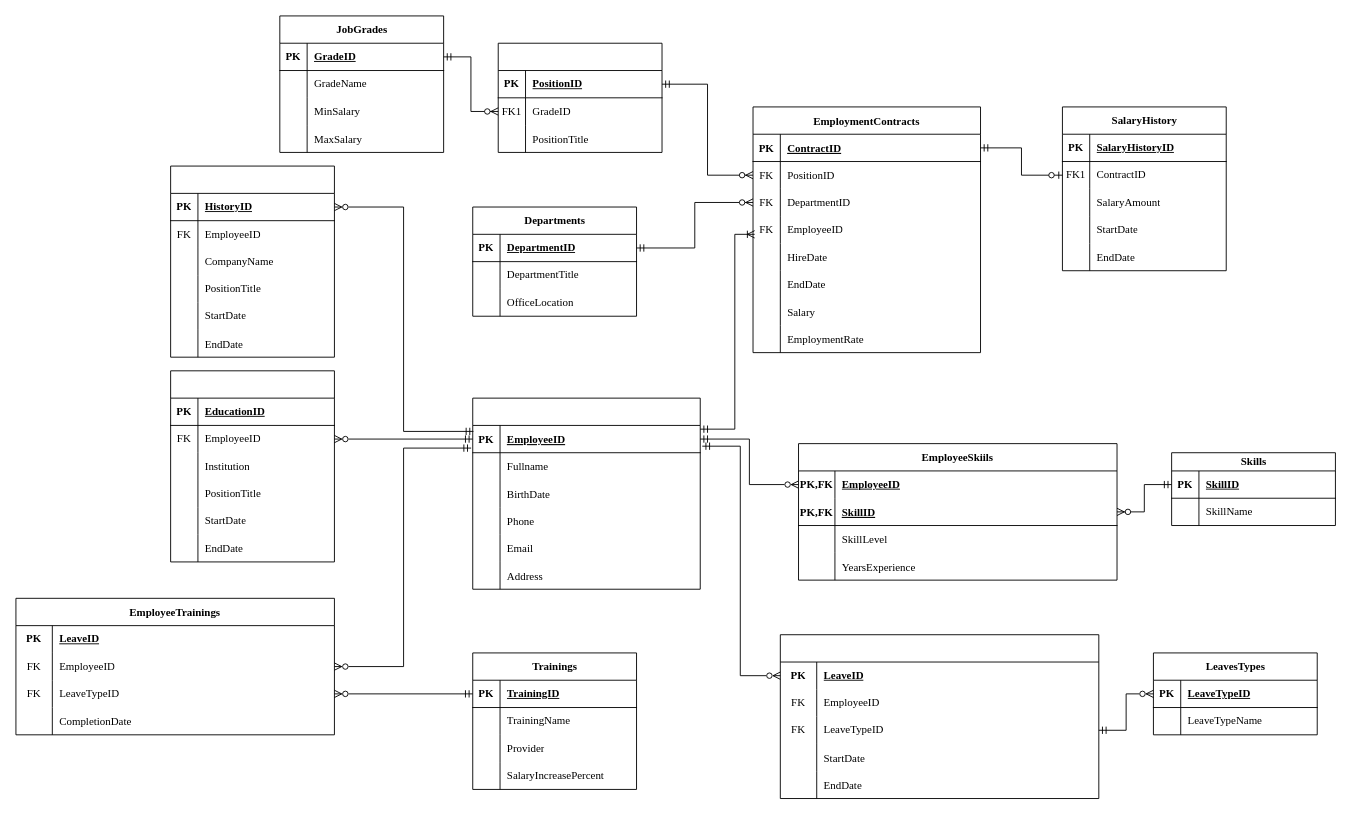
Image size: 1351x814. Some labels were removed from this diagram. The box of each missing label's shape, as (x1, y1, x2, y2) in pixels:
Educations: (170, 370, 334, 562)
EmployeeLeaves: (779, 634, 1099, 799)
Employees: (472, 397, 700, 589)
Positions: (497, 42, 662, 152)
WorkHistory: (170, 165, 334, 357)
